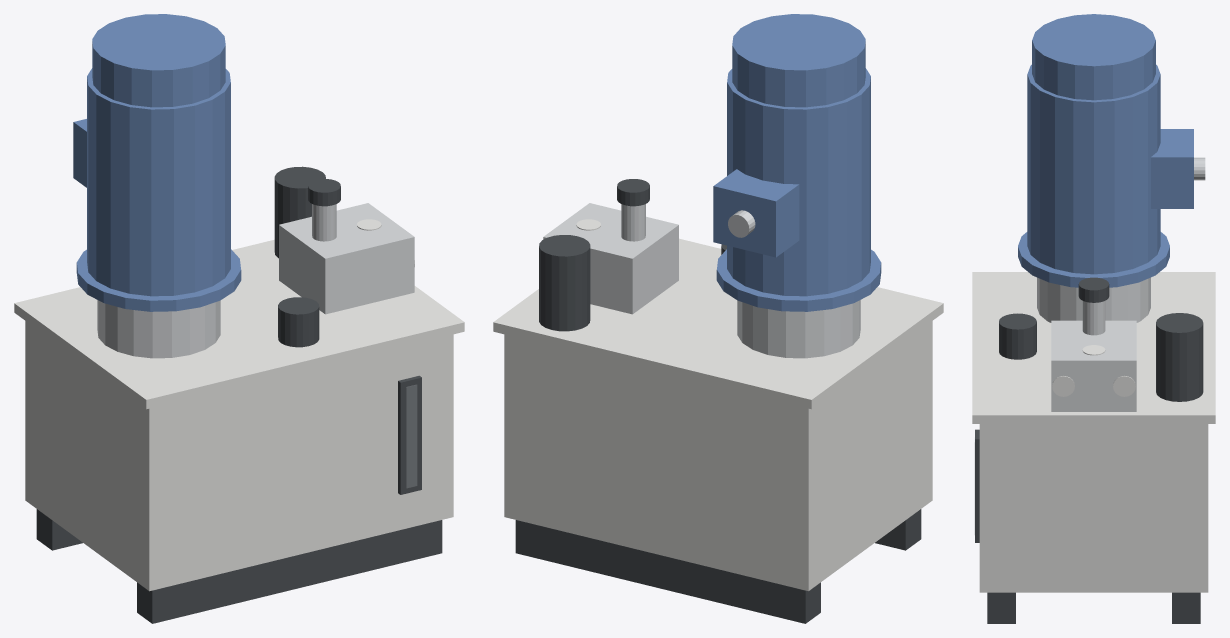
The model's file is hpu-0.37kw.glb.
3 renders of one model, left to right at view 1: azimuth 30°, elevation 25°; view 2: azimuth 150°, elevation 25°; view 3: azimuth 270°, elevation 25°, orthographic. The views are drawn at different scales.
Parts seen in each view (by area): view 1: body; view 2: body; view 3: body, port-pressure, port-return.
Part boxes in pixels (x1=…): body: x1=14, y1=14, x2=464, y2=623; body: x1=493, y1=14, x2=943, y2=623; body: x1=972, y1=14, x2=1215, y2=623; port-pressure: x1=1052, y1=376, x2=1074, y2=396; port-return: x1=1113, y1=376, x2=1135, y2=396.
Size of what is drawn, in the model's own units: 0.356 by 0.5595 by 0.256.
